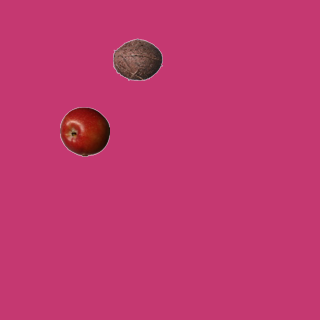Apple Braeburn: (59, 106, 109, 156)
Cocos: (112, 34, 162, 84)
